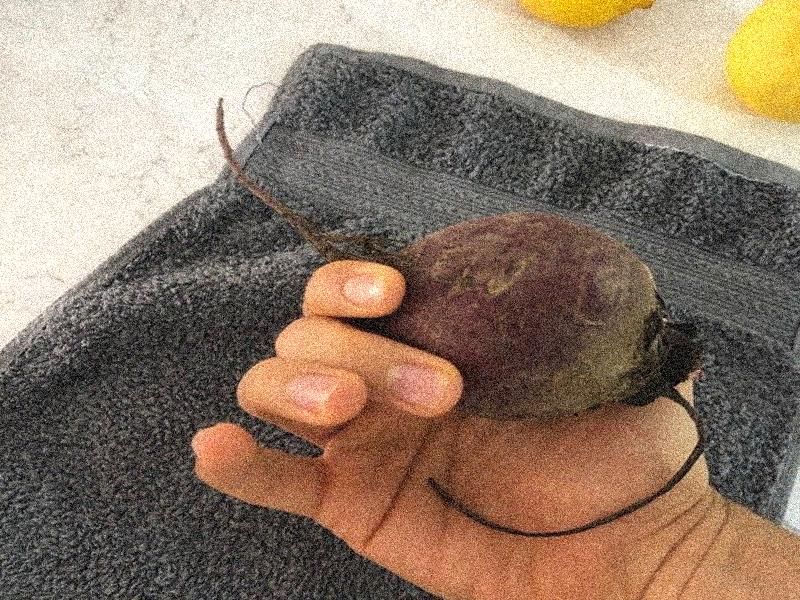Beet: (216, 98, 700, 537)
